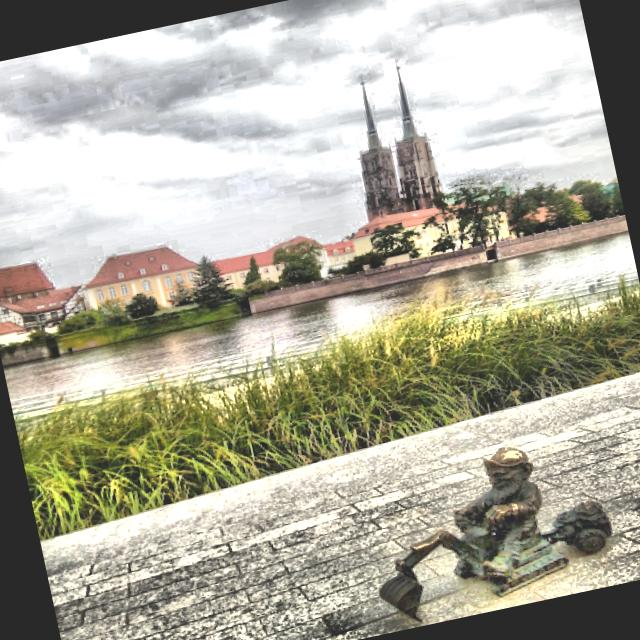Koparkus: (379, 447, 610, 620)
